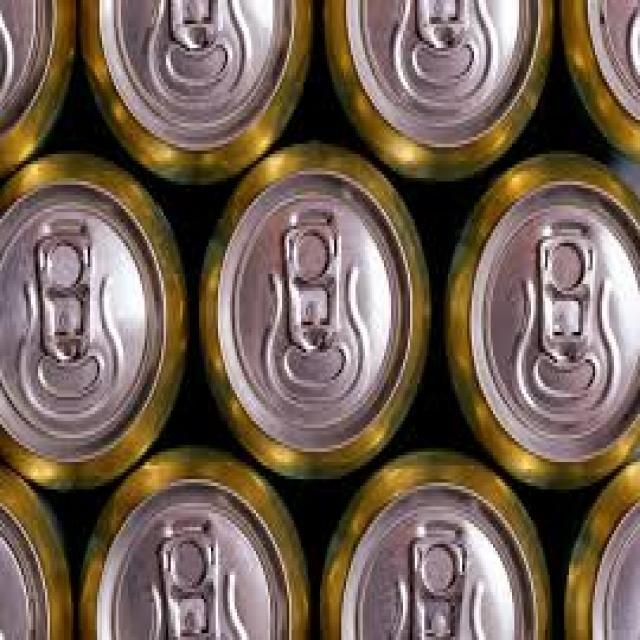recyclable: (193, 140, 434, 483), (441, 150, 640, 494), (0, 152, 191, 490), (74, 441, 314, 640), (318, 445, 554, 640), (79, 0, 316, 192), (318, 0, 559, 184), (0, 0, 78, 185), (564, 451, 640, 640), (0, 452, 76, 640), (557, 0, 638, 168)
